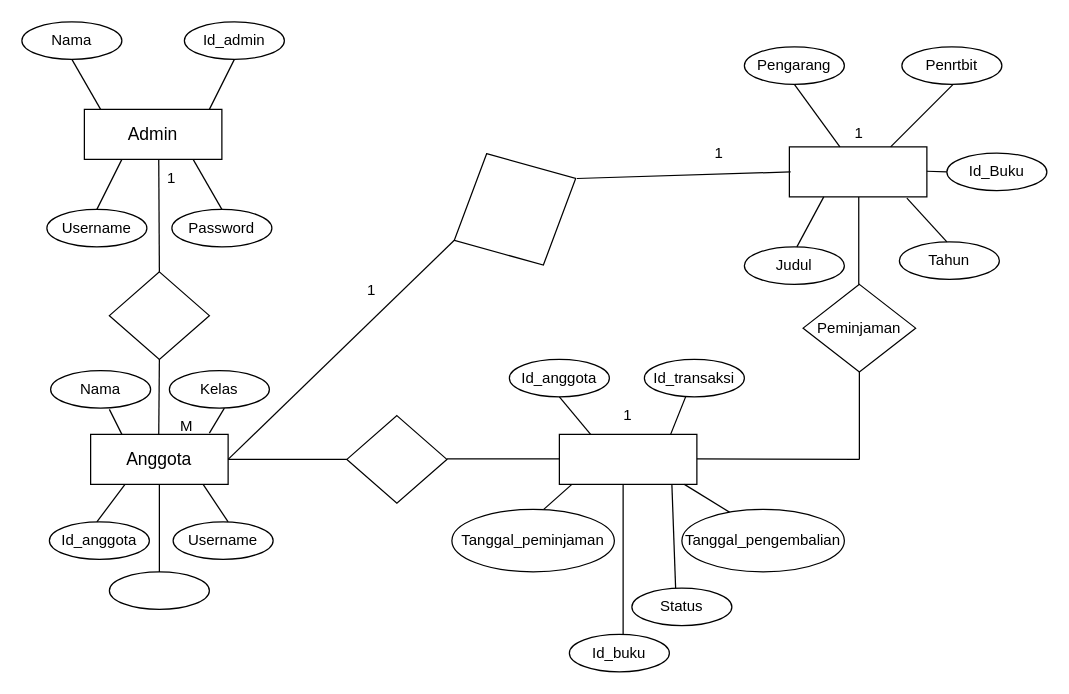
Some shapes in this 1069 by 694 pixel diagram are drawn without their labels. Each missing label, with the centre of its shape:
"Buku" goes at point (857, 171).
"Input" goes at point (158, 315).
"Melakukan" goes at point (396, 458).
"Pasword" goes at point (158, 590).
"Pengembalian" goes at point (514, 208).
"Transaksi" goes at point (627, 458).
